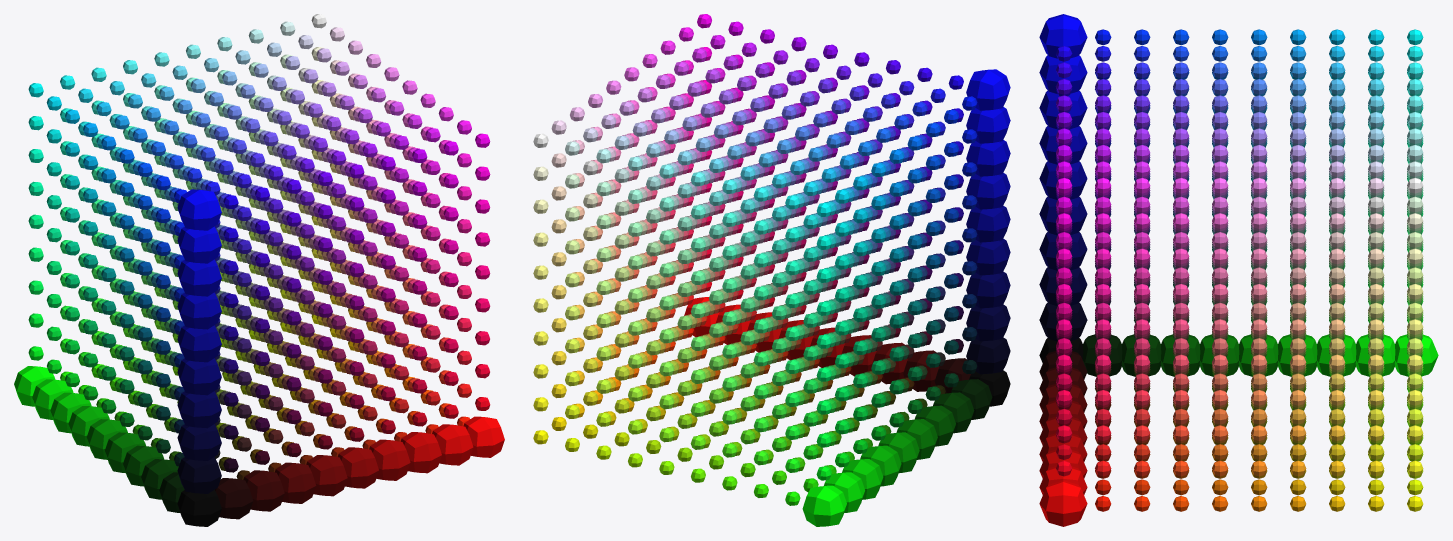
File: Matlan-05a.obj
3 renders of one model, left to right at view 1: azimuth 30°, elevation 25°; view 2: azimuth 150°, elevation 25°; view 3: azimuth 270°, elevation 25°, orthographic. The views are drawn at different scales.
Parts seen in each view (by area): view 1: Cube_(0,_0,_9)_Mesh_(0,_0,_9), Cube_(0,_0,_7)_Mesh_(0,_0,_7), Cube_(0,_0,_6)_Mesh_(0,_0,_6), Cube_(0,_0,_8)_Mesh_(0,_0,_8), Cube_(0,_0,_0)_Mesh_(0,_0,_0), Cube_(0,_0,_4)_Mesh_(0,_0,_4), Cube_(0,_0,_5)_Mesh_(0,_0,_5), Cube_(0,_0,_2)_Mesh_(0,_0,_2), Cube_(0,_0,_3)_Mesh_(0,_0,_3), Cube_(0,_0,_1)_Mesh_(0,_0,_1), Cube_(3,_0,_0)_Mesh_(3,_0,_0), Cube_(2,_0,_0)_Mesh_(2,_0,_0) (+16 smaller); view 2: Cube_(0,_9,_0)_Mesh_(0,_9,_0), Cube_(0,_0,_9)_Mesh_(0,_0,_9), Cube_(0,_0,_6)_Mesh_(0,_0,_6), Cube_(0,_0,_5)_Mesh_(0,_0,_5), Cube_(0,_0,_8)_Mesh_(0,_0,_8), Cube_(0,_0,_7)_Mesh_(0,_0,_7), Cube_(0,_0,_4)_Mesh_(0,_0,_4), Cube_(0,_0,_2)_Mesh_(0,_0,_2), Cube_(0,_0,_3)_Mesh_(0,_0,_3), Cube_(0,_0,_1)_Mesh_(0,_0,_1), Cube_(0,_4,_0)_Mesh_(0,_4,_0), Cube_(0,_5,_0)_Mesh_(0,_5,_0) (+11 smaller); view 3: Cube_(9,_0,_0)_Mesh_(9,_0,_0), Cube_(0,_0,_9)_Mesh_(0,_0,_9), Cube_(0,_0,_8)_Mesh_(0,_0,_8), Cube_(0,_0,_7)_Mesh_(0,_0,_7), Cube_(0,_0,_6)_Mesh_(0,_0,_6), Cube_(0,_9,_0)_Mesh_(0,_9,_0), Cube_(0,_0,_1)_Mesh_(0,_0,_1), Cube_(0,_0,_4)_Mesh_(0,_0,_4), Cube_(0,_0,_3)_Mesh_(0,_0,_3), Cube_(0,_0,_5)_Mesh_(0,_0,_5), Cube_(0,_0,_2)_Mesh_(0,_0,_2), Cube_(0,_8,_0)_Mesh_(0,_8,_0) (+15 smaller).
Part boxes in pixels (bbox=[...]): Cube_(0,_0,_9)_Mesh_(0,_0,_9): bbox=[177, 189, 221, 230]; Cube_(0,_0,_7)_Mesh_(0,_0,_7): bbox=[177, 259, 221, 296]; Cube_(0,_0,_6)_Mesh_(0,_0,_6): bbox=[177, 292, 221, 329]; Cube_(0,_0,_8)_Mesh_(0,_0,_8): bbox=[177, 226, 221, 263]; Cube_(0,_0,_0)_Mesh_(0,_0,_0): bbox=[177, 490, 221, 526]; Cube_(0,_0,_4)_Mesh_(0,_0,_4): bbox=[177, 358, 221, 395]; Cube_(0,_0,_5)_Mesh_(0,_0,_5): bbox=[177, 325, 221, 362]; Cube_(0,_0,_2)_Mesh_(0,_0,_2): bbox=[177, 424, 221, 460]; Cube_(0,_0,_3)_Mesh_(0,_0,_3): bbox=[177, 391, 221, 428]; Cube_(0,_0,_1)_Mesh_(0,_0,_1): bbox=[177, 457, 221, 493]; Cube_(3,_0,_0)_Mesh_(3,_0,_0): bbox=[275, 462, 316, 503]; Cube_(2,_0,_0)_Mesh_(2,_0,_0): bbox=[243, 470, 284, 511]; Cube_(0,_9,_0)_Mesh_(0,_9,_0): bbox=[802, 485, 846, 526]; Cube_(0,_0,_9)_Mesh_(0,_0,_9): bbox=[966, 69, 1010, 110]; Cube_(0,_0,_6)_Mesh_(0,_0,_6): bbox=[966, 172, 1010, 209]; Cube_(0,_0,_5)_Mesh_(0,_0,_5): bbox=[966, 205, 1010, 242]; Cube_(0,_0,_8)_Mesh_(0,_0,_8): bbox=[966, 107, 1010, 143]; Cube_(0,_0,_7)_Mesh_(0,_0,_7): bbox=[966, 140, 1010, 176]; Cube_(0,_0,_4)_Mesh_(0,_0,_4): bbox=[966, 238, 1010, 275]; Cube_(0,_0,_2)_Mesh_(0,_0,_2): bbox=[966, 304, 1010, 341]; Cube_(0,_0,_3)_Mesh_(0,_0,_3): bbox=[966, 271, 1010, 308]; Cube_(0,_0,_1)_Mesh_(0,_0,_1): bbox=[966, 337, 1010, 374]; Cube_(0,_4,_0)_Mesh_(0,_4,_0): bbox=[896, 419, 937, 459]; Cube_(0,_5,_0)_Mesh_(0,_5,_0): bbox=[878, 432, 919, 473]; Cube_(9,_0,_0)_Mesh_(9,_0,_0): bbox=[1039, 480, 1087, 526]; Cube_(0,_0,_9)_Mesh_(0,_0,_9): bbox=[1039, 14, 1087, 58]; Cube_(0,_0,_8)_Mesh_(0,_0,_8): bbox=[1039, 55, 1087, 93]; Cube_(0,_0,_7)_Mesh_(0,_0,_7): bbox=[1039, 90, 1087, 129]; Cube_(0,_0,_6)_Mesh_(0,_0,_6): bbox=[1039, 126, 1087, 164]; Cube_(0,_9,_0)_Mesh_(0,_9,_0): bbox=[1394, 334, 1438, 376]; Cube_(0,_0,_1)_Mesh_(0,_0,_1): bbox=[1039, 302, 1087, 341]; Cube_(0,_0,_4)_Mesh_(0,_0,_4): bbox=[1039, 196, 1087, 235]; Cube_(0,_0,_3)_Mesh_(0,_0,_3): bbox=[1039, 232, 1087, 270]; Cube_(0,_0,_5)_Mesh_(0,_0,_5): bbox=[1039, 161, 1087, 199]; Cube_(0,_0,_2)_Mesh_(0,_0,_2): bbox=[1039, 267, 1087, 305]; Cube_(0,_8,_0)_Mesh_(0,_8,_0): bbox=[1355, 334, 1395, 376].
Bounding box in the file's own units: 18.2 × 18.2 × 18.2.
